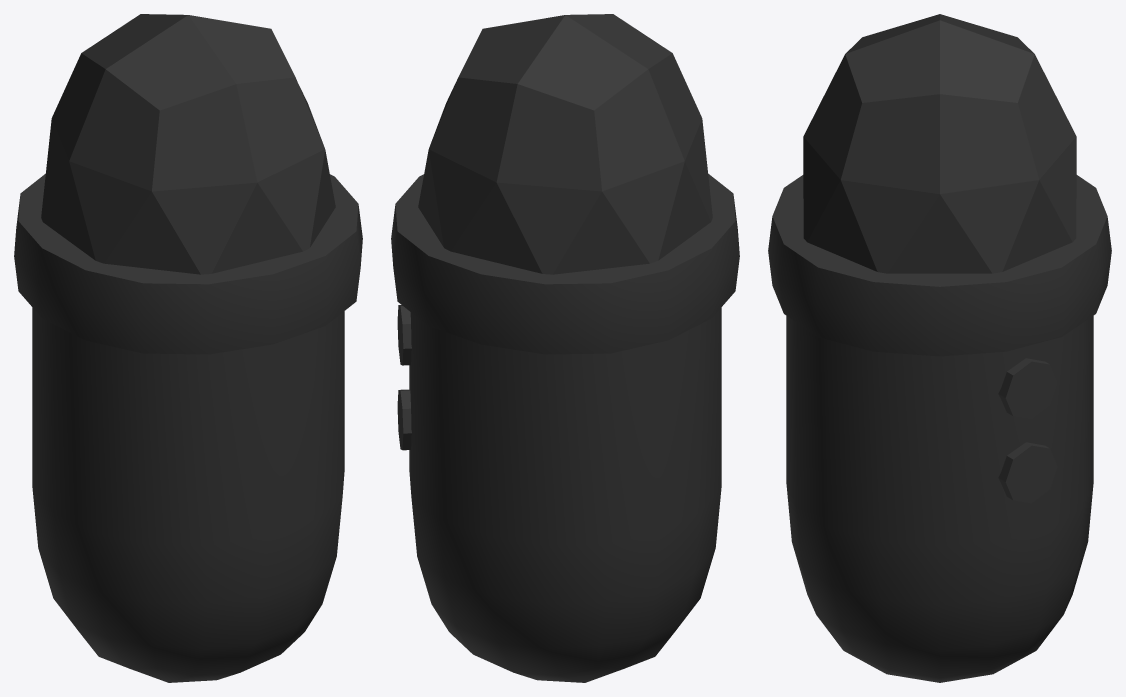
File: Mic_Ac.obj
3 views of the same model, side by side, from view 1: azimuth 30°, elevation 25°; view 2: azimuth 150°, elevation 25°; view 3: azimuth 270°, elevation 25° (orthographic).
Visible parts, largest first — view 1: Mic_Ac; view 2: Mic_Ac; view 3: Mic_Ac.
Part boxes in pixels (left/top/right/bottom): Mic_Ac: left=14, top=14, right=362, bottom=682; Mic_Ac: left=391, top=14, right=739, bottom=682; Mic_Ac: left=768, top=14, right=1111, bottom=682.
Bounding box in the file's own units: 0.0721 × 0.1498 × 0.0721.
